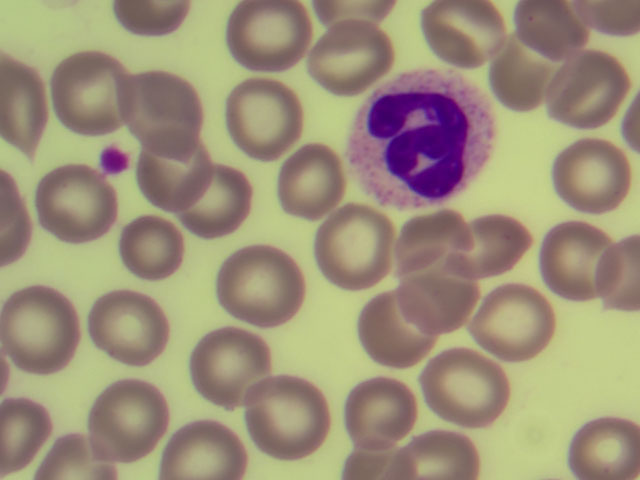Platelets: (99, 147, 132, 171)
RBC: (404, 221, 479, 327), (316, 205, 399, 289), (54, 56, 138, 132), (192, 331, 272, 410), (249, 378, 330, 456), (140, 134, 216, 216), (5, 291, 79, 374), (544, 223, 623, 300), (176, 160, 252, 239), (554, 48, 628, 129), (230, 79, 301, 162), (357, 291, 441, 361), (92, 291, 173, 363), (220, 253, 302, 324), (231, 1, 313, 72), (428, 353, 507, 426), (119, 77, 208, 141), (40, 173, 113, 245), (286, 139, 346, 226), (483, 286, 551, 361), (561, 143, 632, 214), (1, 54, 48, 160), (349, 375, 417, 447), (567, 413, 640, 480), (97, 384, 163, 458), (456, 212, 530, 275), (173, 418, 248, 480), (427, 1, 511, 53), (311, 21, 368, 94), (501, 37, 558, 110), (400, 431, 479, 480), (120, 221, 186, 278), (522, 2, 590, 56), (595, 235, 640, 313), (1, 397, 44, 475), (51, 437, 119, 480), (1, 169, 31, 263), (116, 1, 192, 37), (349, 439, 413, 480), (315, 1, 384, 33), (577, 1, 637, 36)
WBC: (366, 79, 489, 197)
